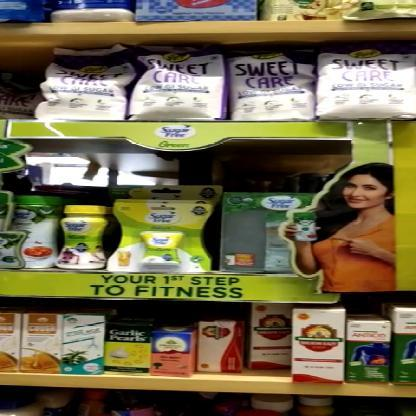SUGAR FREE NATURA 500 PELLET: (111, 202, 214, 272)
SUGAR FREE NATURA_ POWDER_CONC_100G: (61, 206, 110, 270)
